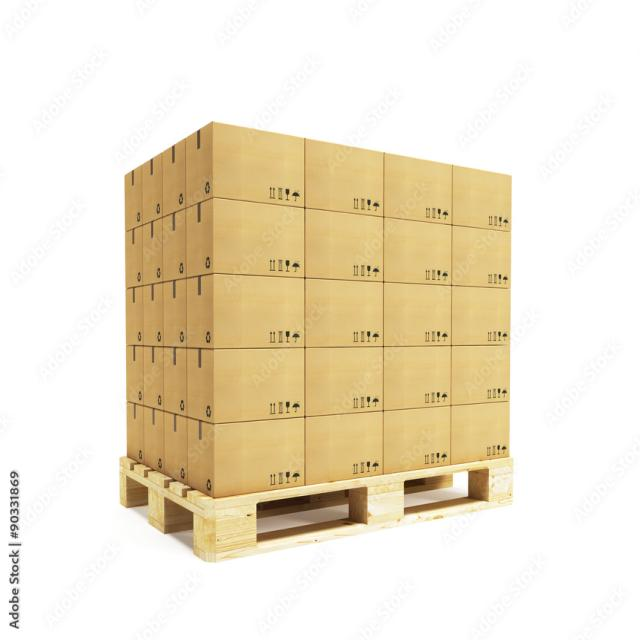pallet: (115, 113, 518, 567)
